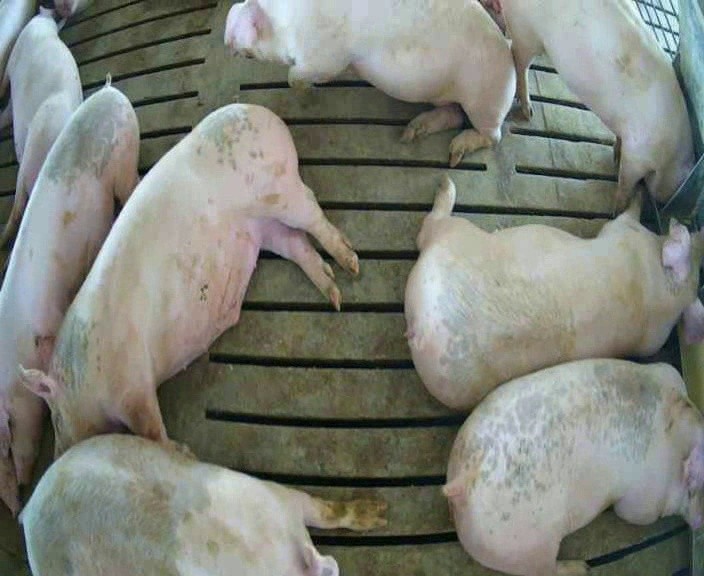pig: (405, 177, 703, 409), (444, 359, 703, 575), (0, 80, 137, 484), (21, 434, 385, 574), (226, 2, 514, 166), (502, 2, 692, 207), (0, 7, 82, 244)
